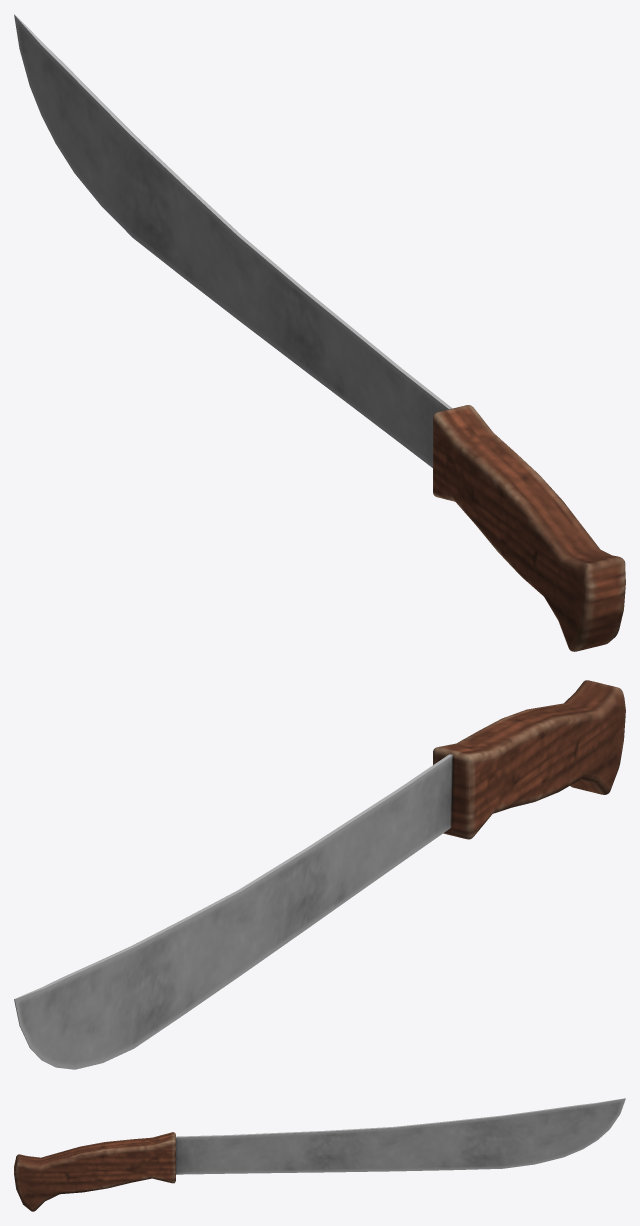
File: Blade_Machete.glb
The picture shows the model from 3 angles, top to bottom: view 1: azimuth 30°, elevation 25°; view 2: azimuth 150°, elevation 25°; view 3: azimuth 270°, elevation 25°; orthographic projection. The views are drawn at different scales.
Parts seen in each view (by area): view 1: Object_3, Object_2; view 2: Object_3, Object_2; view 3: Object_3, Object_2.
Boxes of the visible parts, left/top/right/bottom form: Object_3: left=14, top=14, right=452, bottom=467; Object_2: left=433, top=405, right=625, bottom=651; Object_3: left=14, top=754, right=453, bottom=1069; Object_2: left=433, top=680, right=625, bottom=839; Object_3: left=175, top=1098, right=625, bottom=1174; Object_2: left=14, top=1132, right=175, bottom=1211.
Size of the model in its own units: 0.0272 by 0.1342 by 0.68.
1 material, 1 textured.
